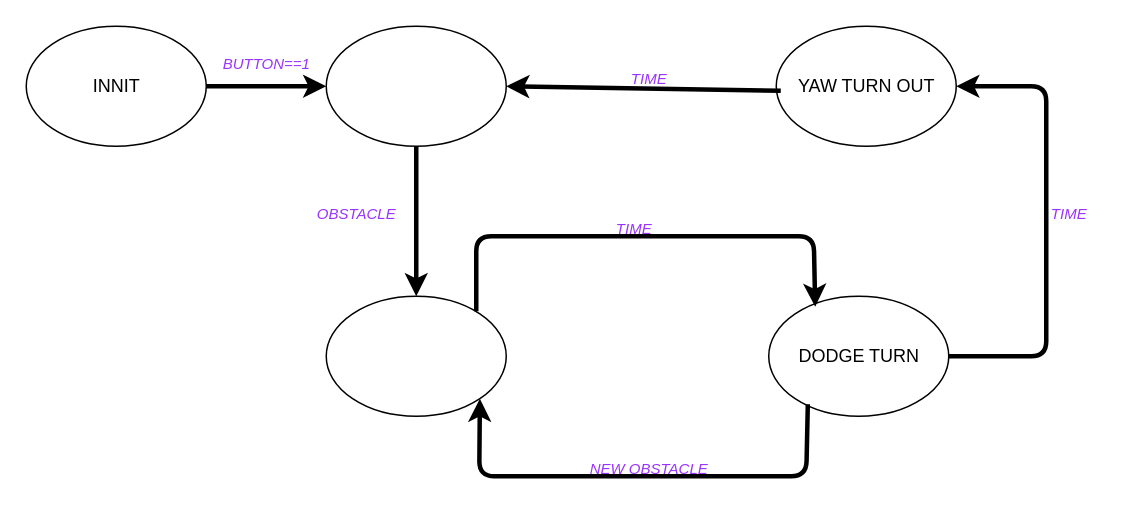
Image size: 1133x518. Some labels were removed from this diagram. The shapes that lost their labels are listed below. From the top down, each one's centre as x and y in pixels, then its label:
At point 415,85: "FORWARD".
At point 415,355: "YAW TURN IN".
